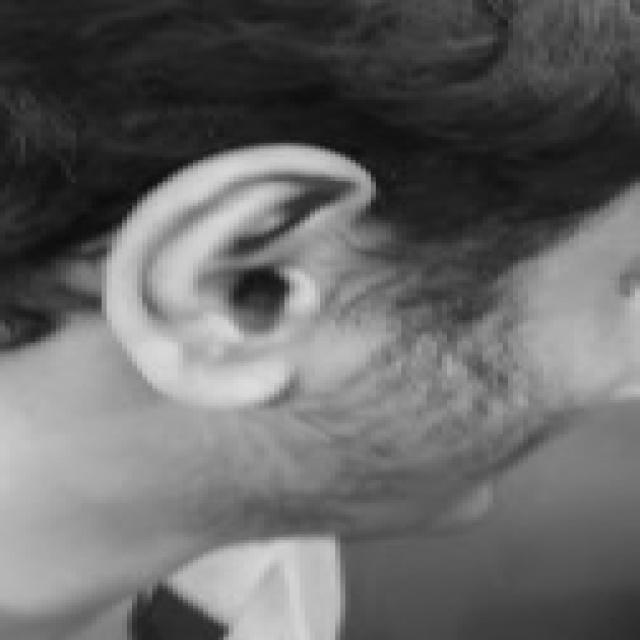ear: (97, 146, 371, 406)
